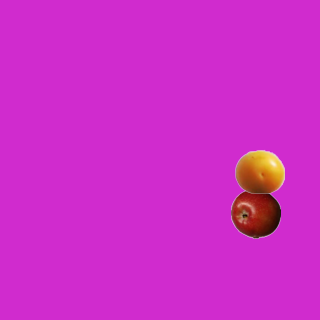Apple Braeburn: (230, 188, 280, 238)
Cherry Wax Yellow: (234, 146, 284, 196)
